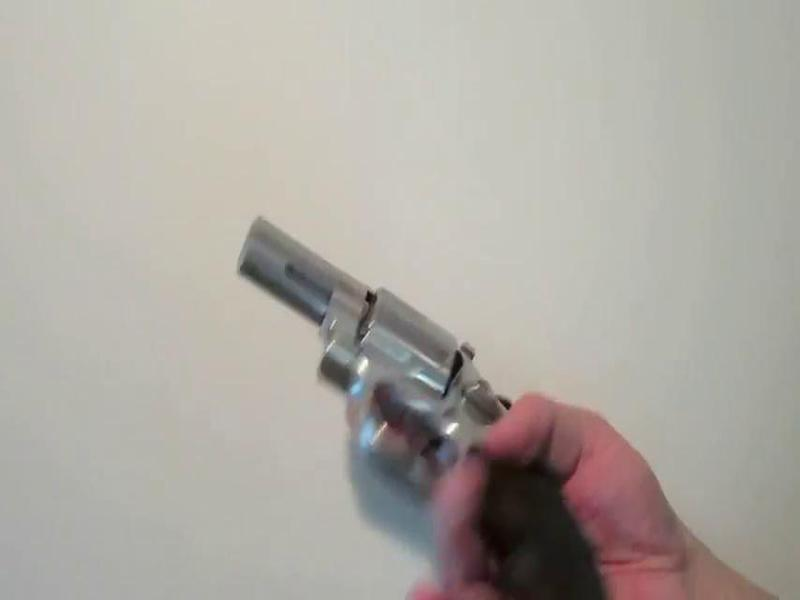Revolver: (223, 202, 619, 600)
